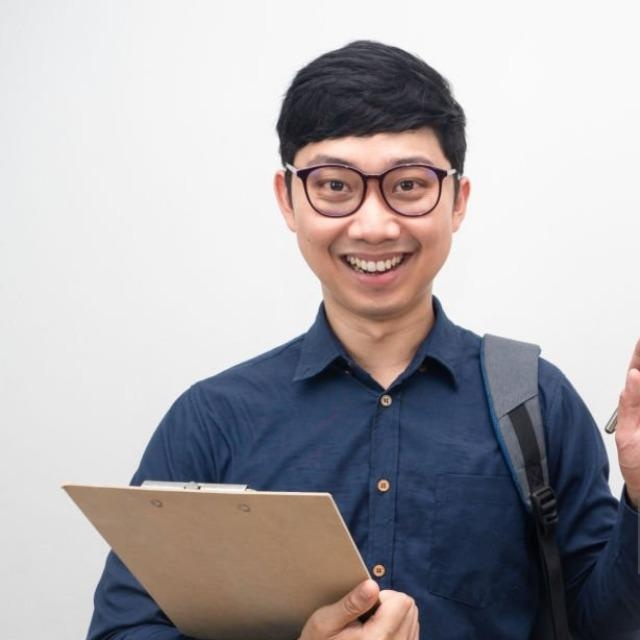Sin_Casco_Mascarrilla: (272, 41, 471, 314)
Sin_Chaleco: (162, 317, 598, 639)
